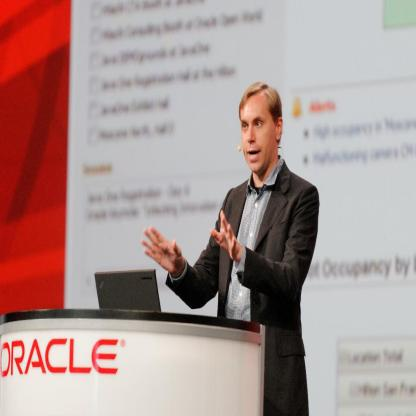board: (94, 270, 161, 310)
